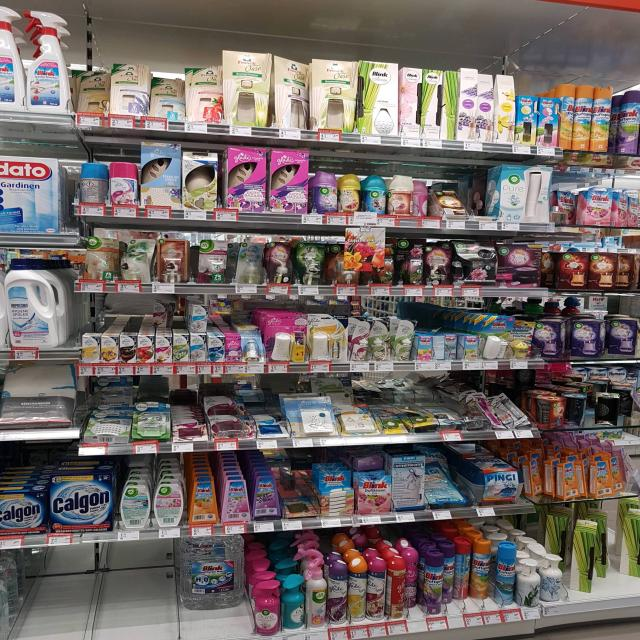void: (128, 543, 173, 640), (78, 545, 122, 640), (30, 552, 72, 637), (469, 163, 498, 231)
